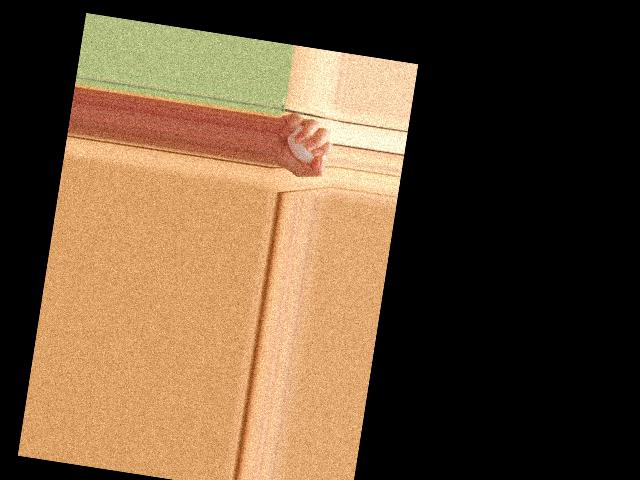egg: (283, 123, 322, 164)
